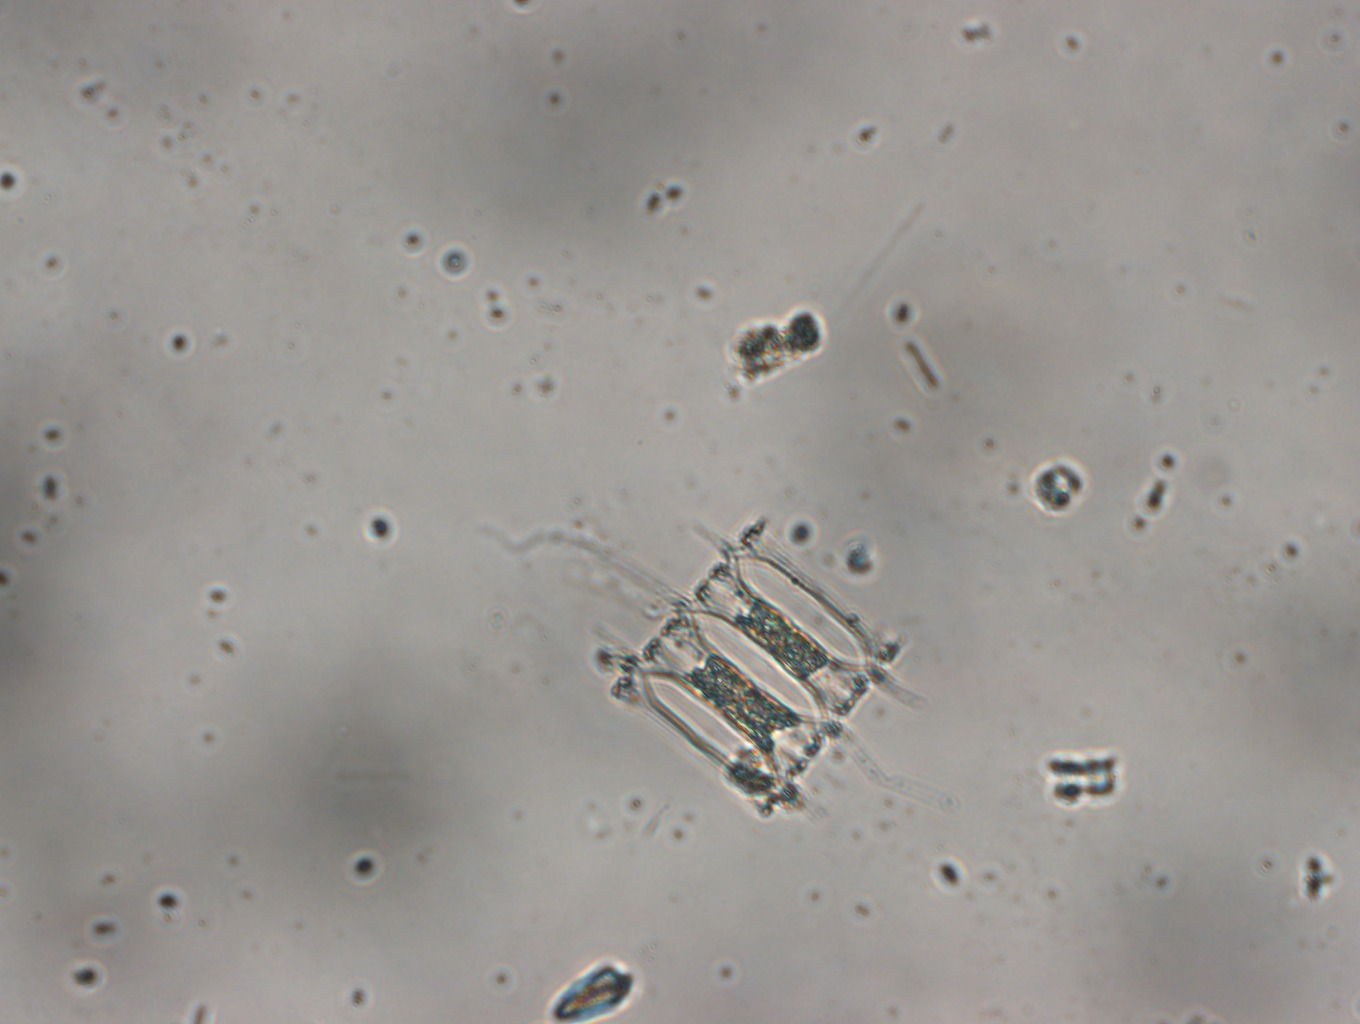chaetoceros: (563, 503, 924, 840)
